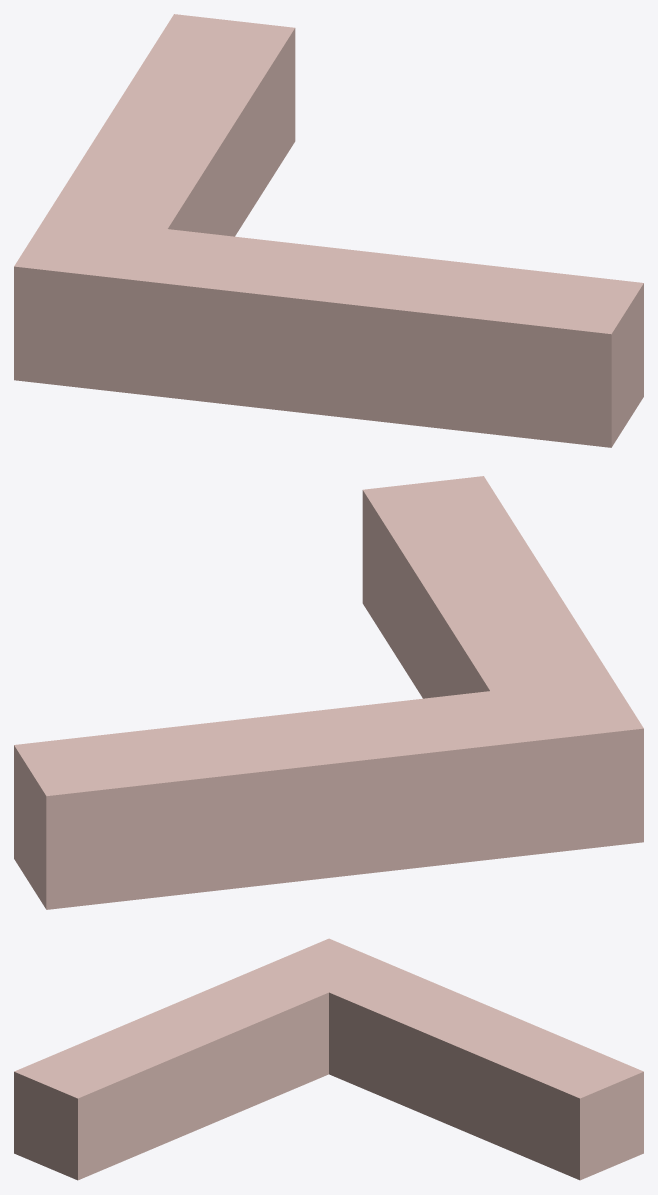
The model's file is V-Wall.fbx.
3 renders of one model, top to bottom at view 1: azimuth 30°, elevation 25°; view 2: azimuth 150°, elevation 25°; view 3: azimuth 270°, elevation 25°, orthographic. The views are drawn at different scales.
Parts seen in each view (by area): view 1: Cube; view 2: Cube; view 3: Cube.
Boxes of the visible parts, <box> form: Cube: <box>14,14,643,447</box>; Cube: <box>14,476,643,909</box>; Cube: <box>14,938,643,1180</box>.
Bounding box in the file's own units: 839 × 200 × 1394.
